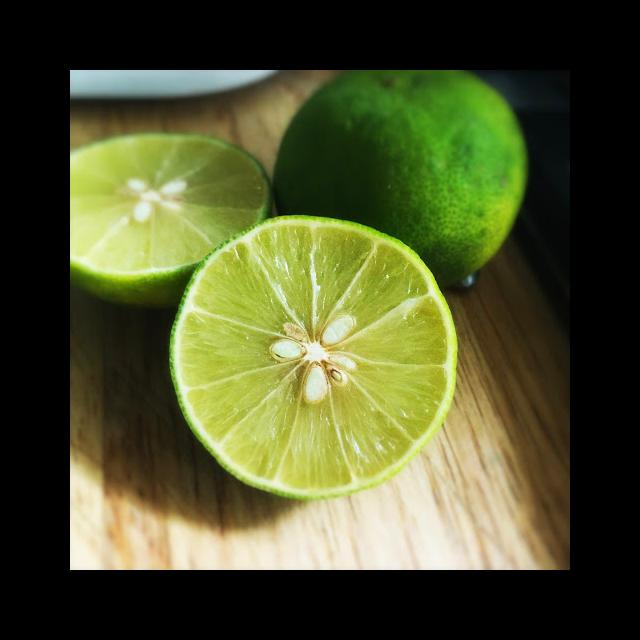lime: (264, 70, 529, 313)
